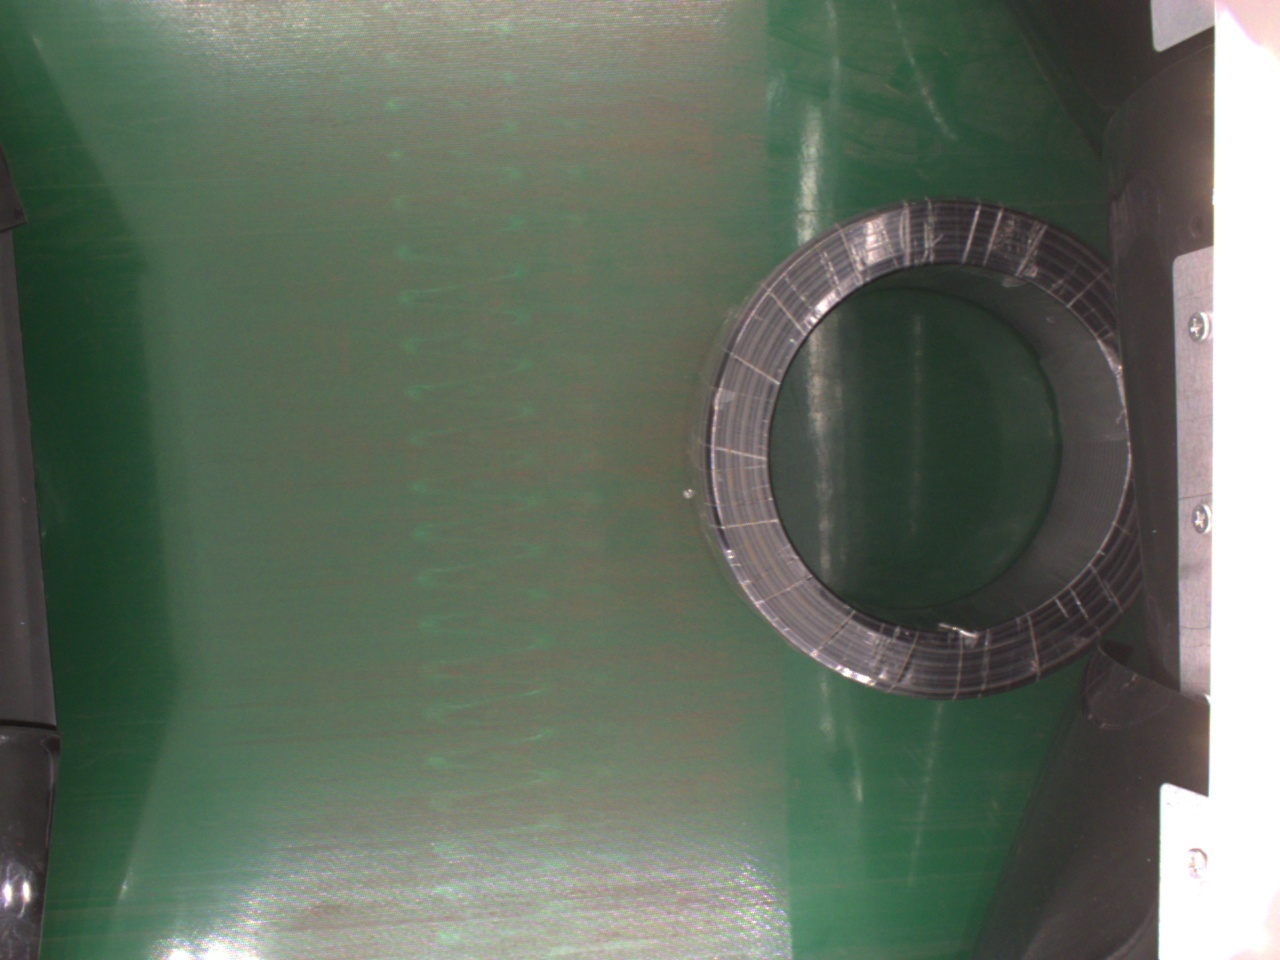black: (694, 201, 1128, 699)
